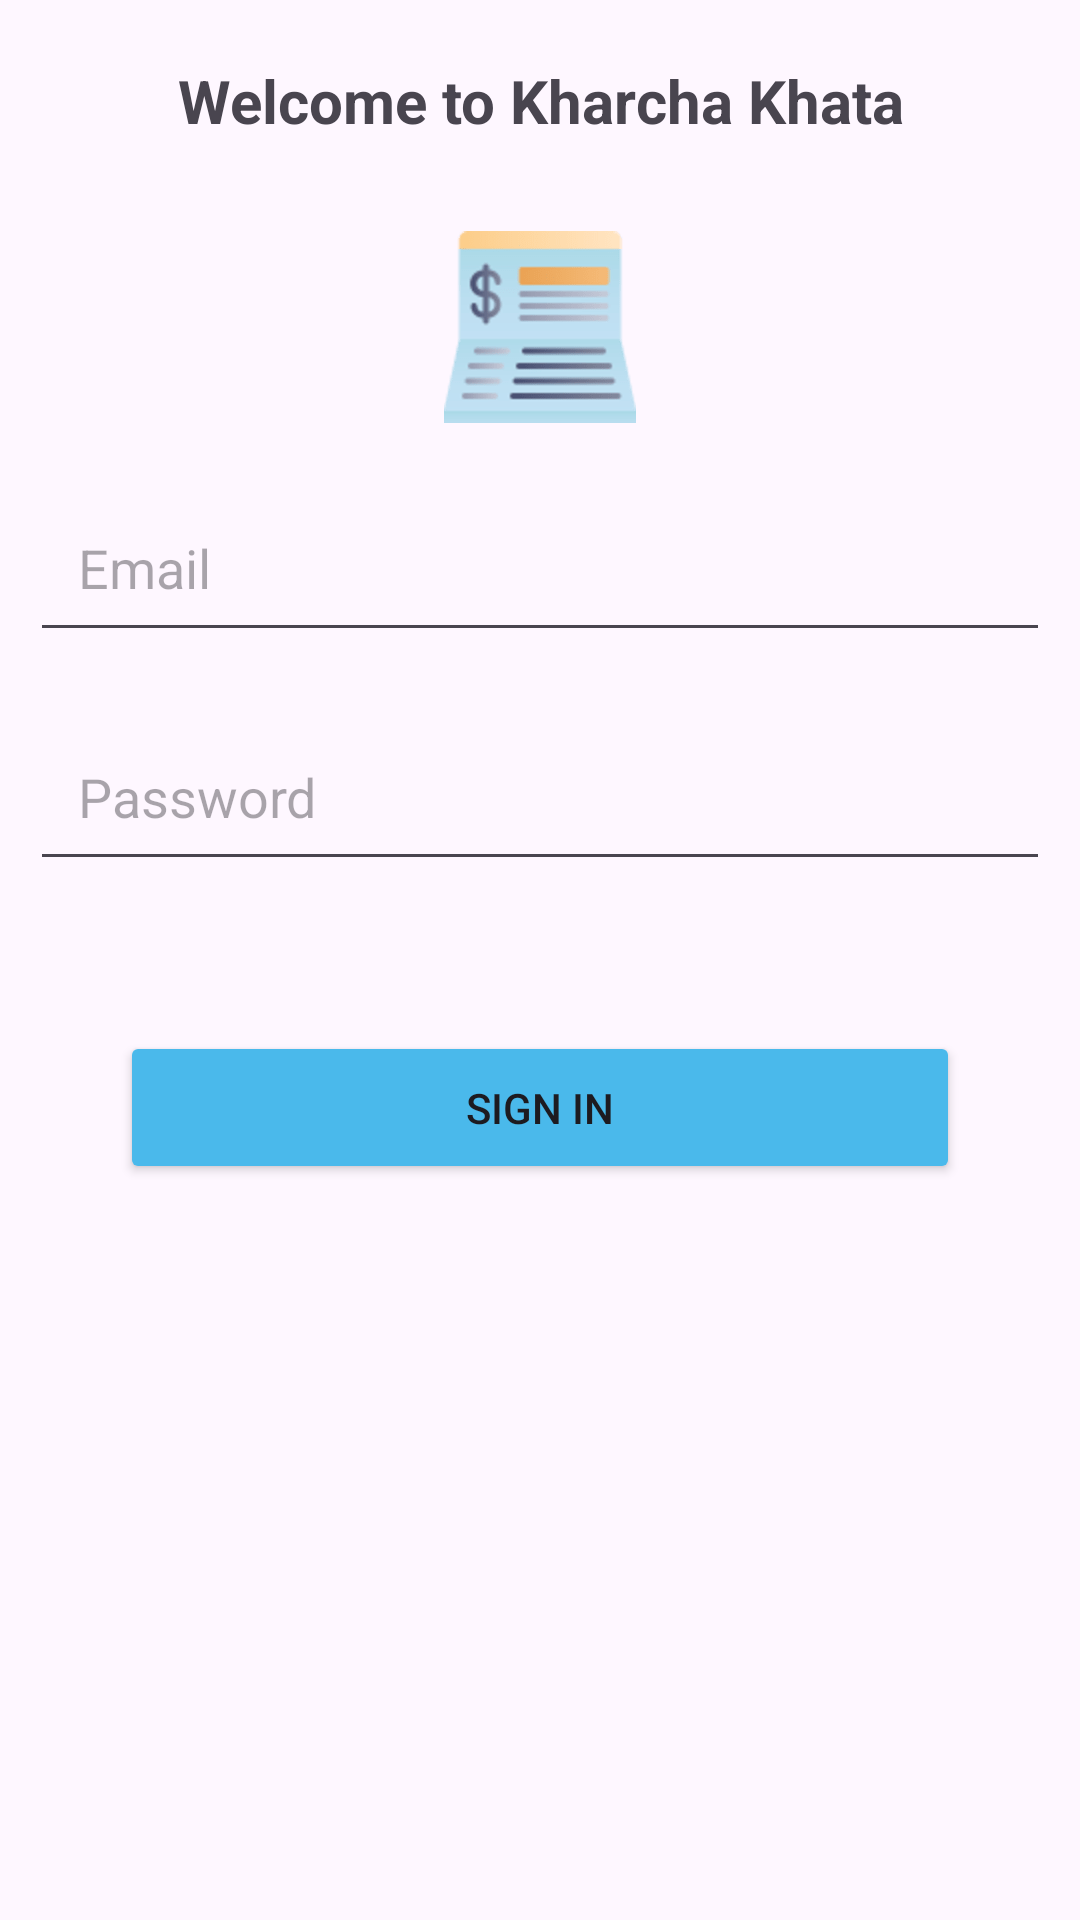

Where icons sit on this 1080w x 1920h app screen, as box=[x1, y1, x2, y2]:
account book: box=[444, 231, 636, 423]
